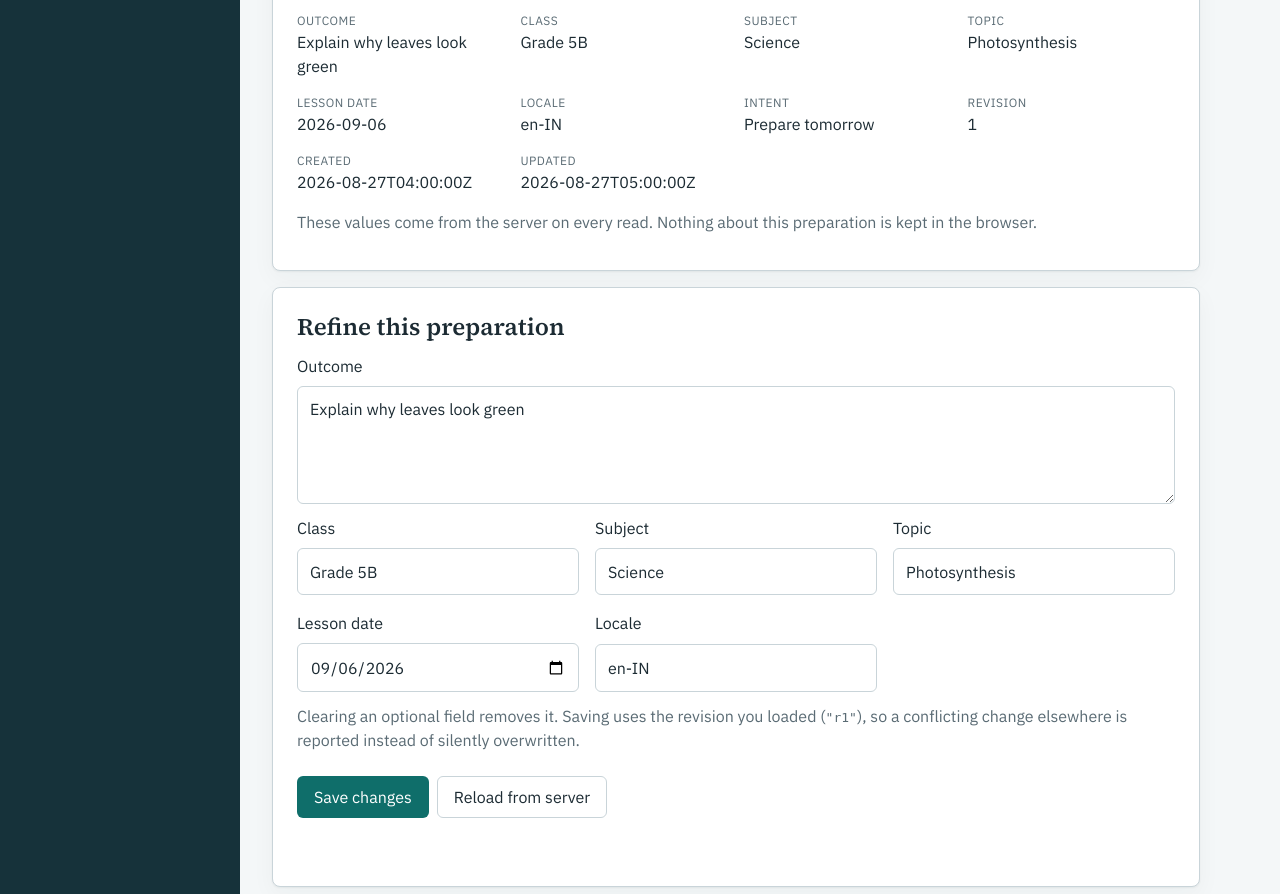
Test: G. Work refinement uses If-Match and Idempotency-Key › refuses to empty the outcome
The width and height of the screenshot is (1280, 894).
(page scrolled)
Expected: the heading "Refine this preparation" is shown, [297,310,564,342]
Clear the text box labelled "Outcome": (736, 445) [297,386,1175,504]
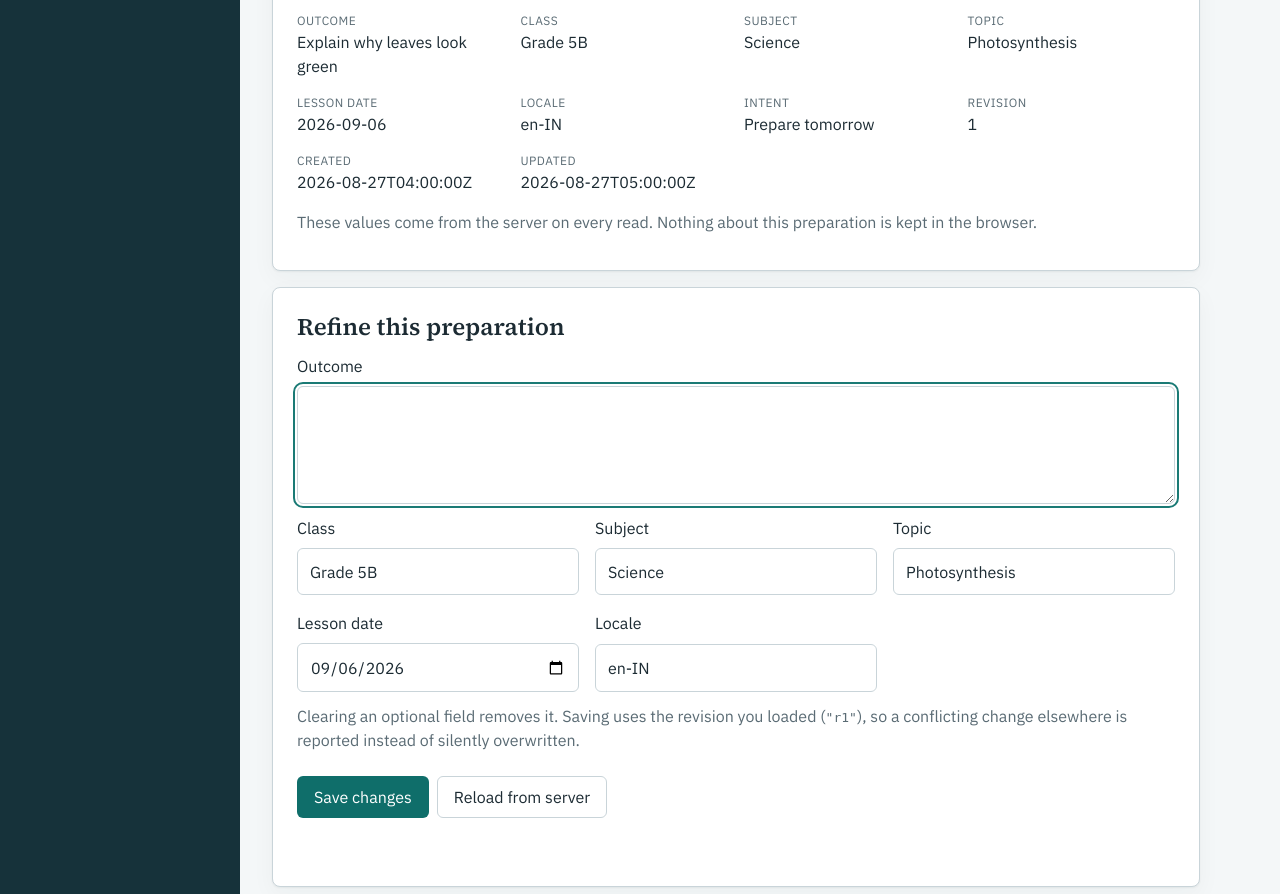
Click the button "Save changes": (363, 797) [297,776,429,818]
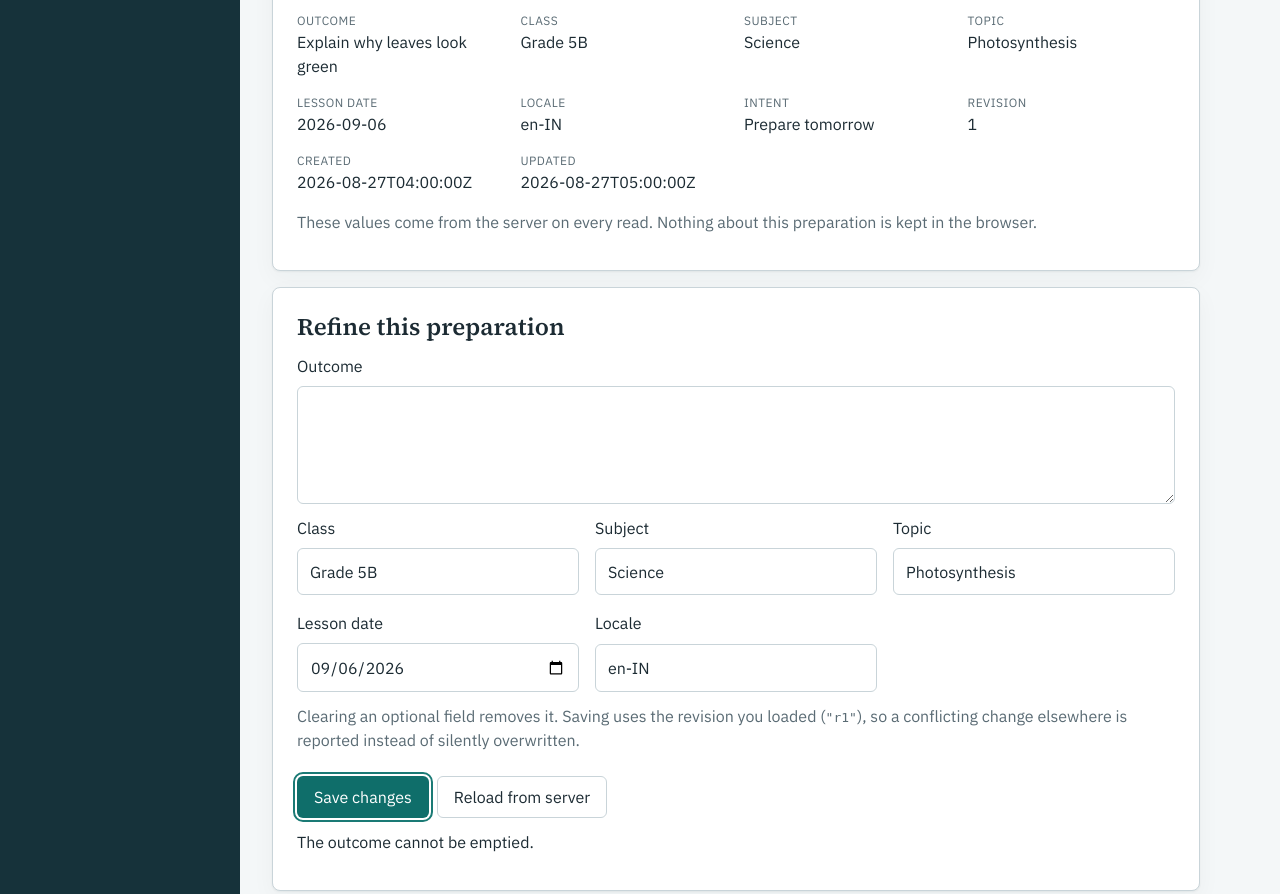
Now the text "The outcome cannot be emptied." is shown, box [297,832,534,852]
